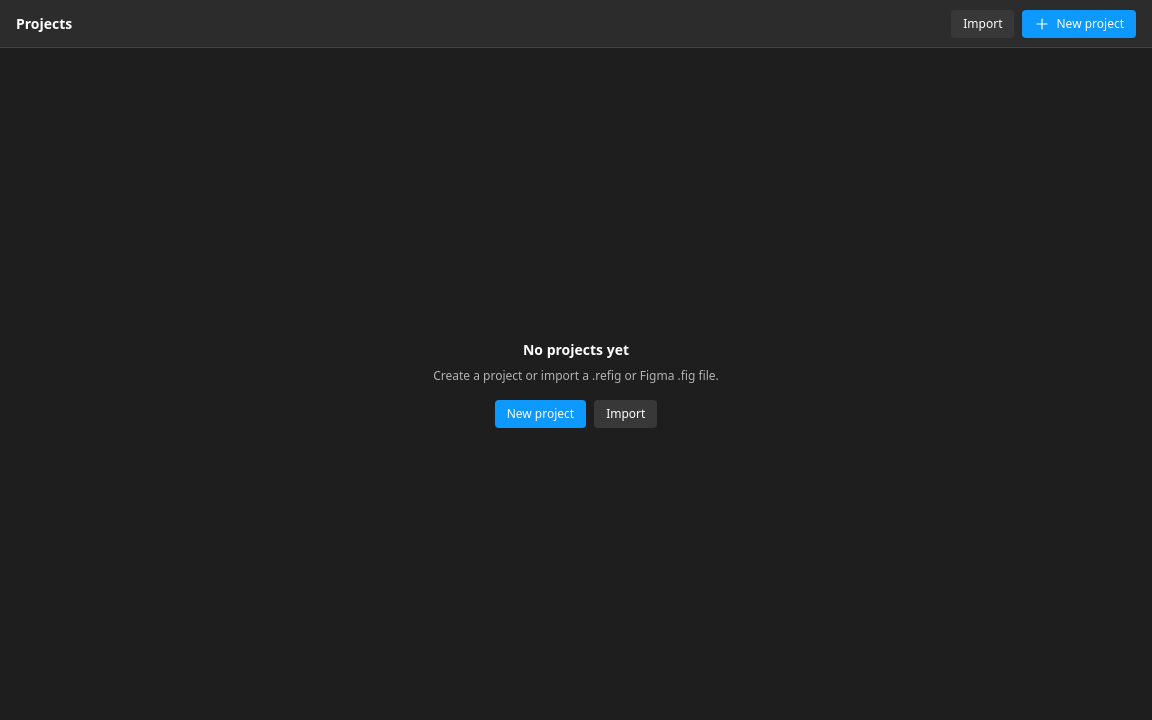
Test: New project opens the editor; Back returns to the list
Click the 1st button "New project": (1079, 24) [1022,10,1136,38]
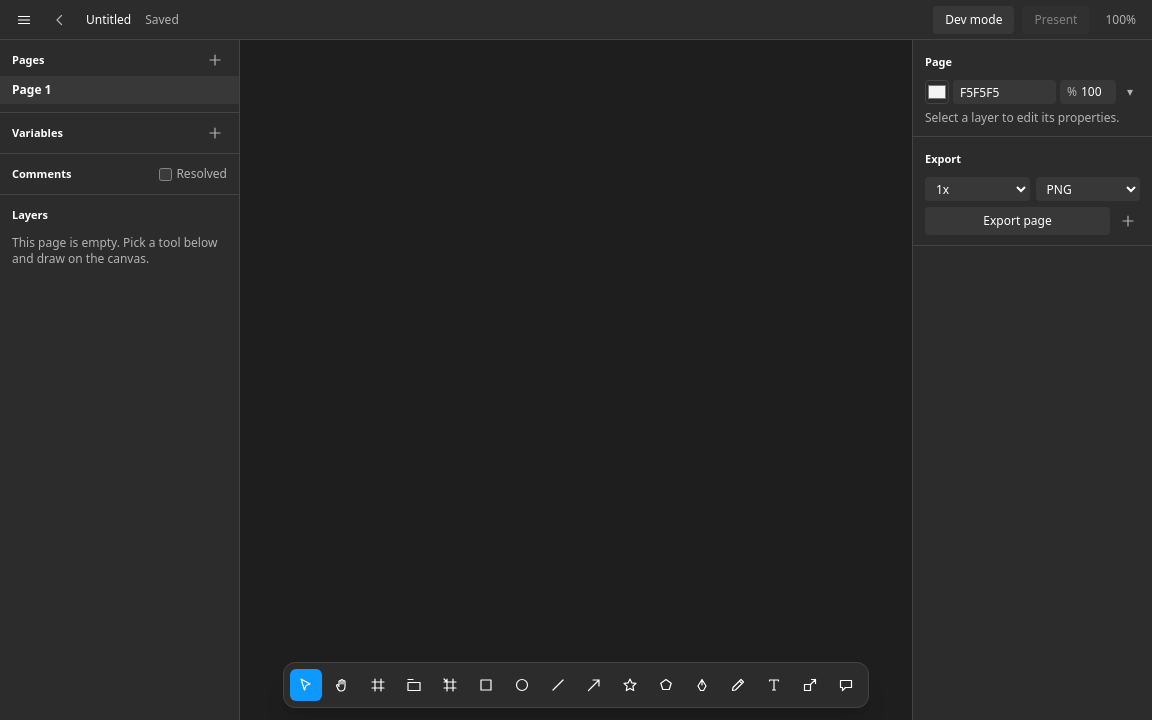
expect the element named "Tools" is shown: met, box [283,662,869,708]
expect the message reads "Saved": met, box [145,10,179,28]
Click the button named "Back to projects": (60, 20) [48,8,72,32]
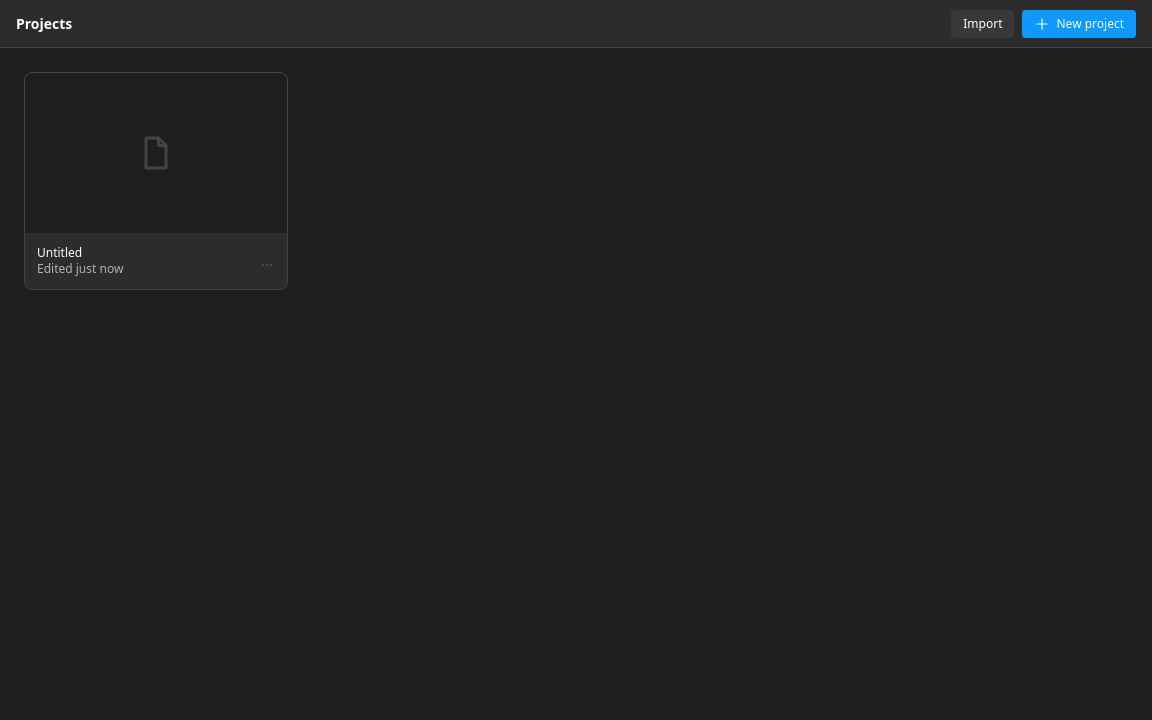
expect the button with aria-label "Open Untitled" is shown: met, box [25,73,287,289]
